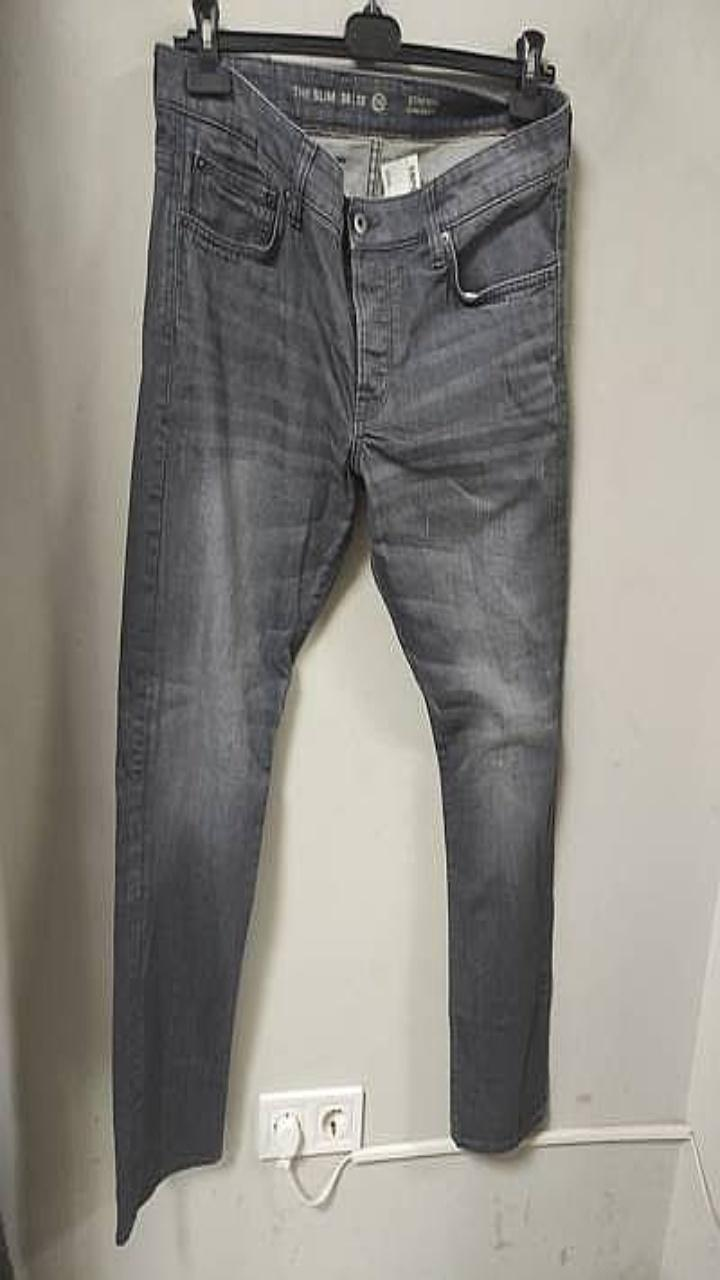Jeans: (113, 43, 570, 1243)
